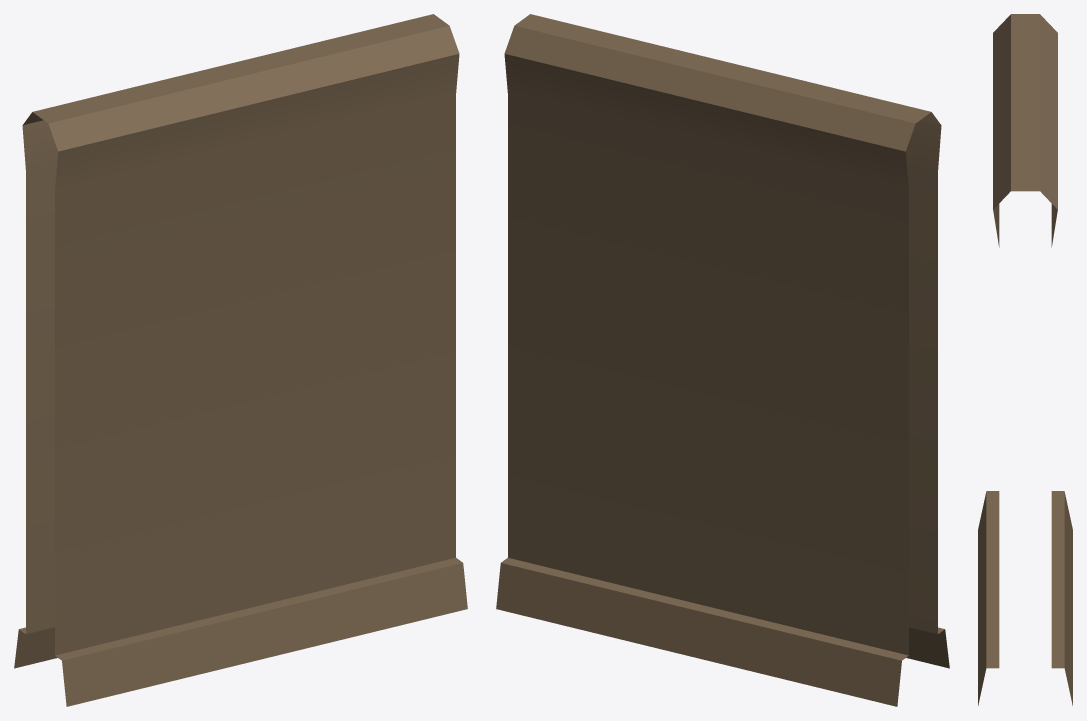
Rendered from wall_segment_straight.FBX.
3 renders of one model, left to right at view 1: azimuth 30°, elevation 25°; view 2: azimuth 150°, elevation 25°; view 3: azimuth 270°, elevation 25°, orthographic. The views are drawn at different scales.
Visible parts, largest first — view 1: wall_segment; view 2: wall_segment; view 3: wall_segment.
Part boxes in pixels (box(x1,y1,x2,y2)): wall_segment: box(14, 14, 467, 706); wall_segment: box(496, 14, 949, 706); wall_segment: box(978, 14, 1072, 705).
Size of the model in its own units: 400 by 543 by 90.57.
